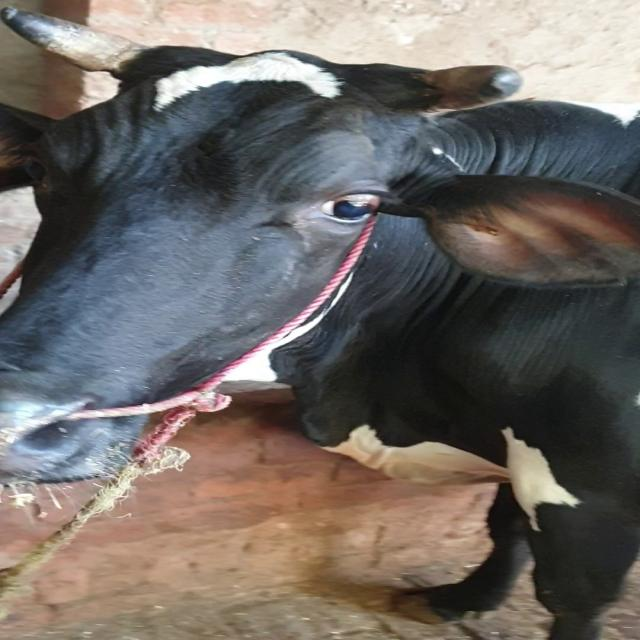cowFace: (0, 70, 431, 471)
